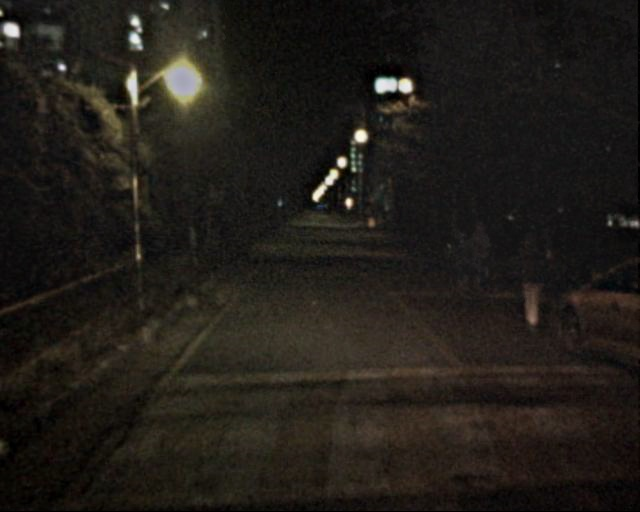person: (505, 221, 558, 333), (469, 221, 505, 298), (448, 227, 483, 299)
